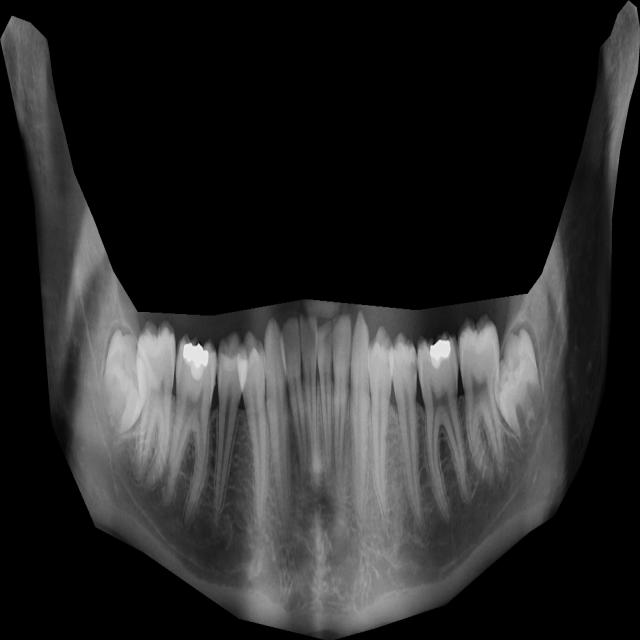mandibula: (0, 0, 640, 640)
